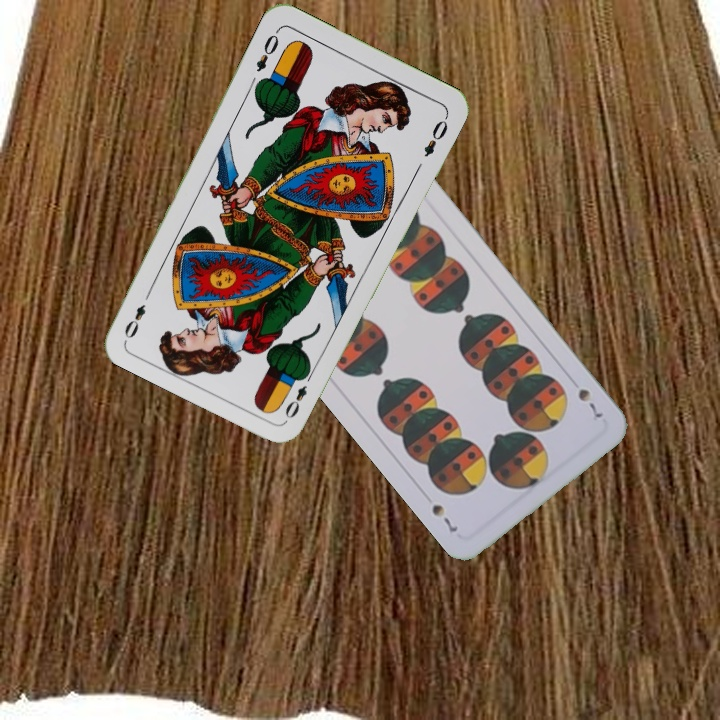EO: (281, 366, 316, 421), (252, 25, 282, 75)
S7: (573, 384, 606, 424)
